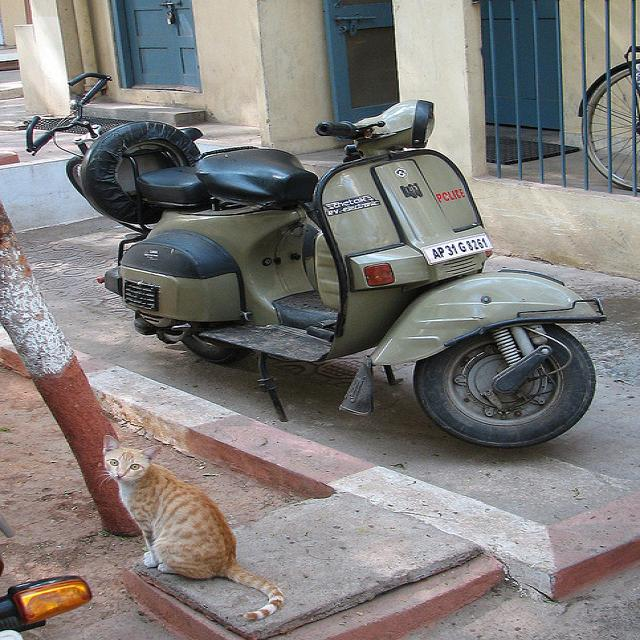motor: (82, 102, 616, 452)
